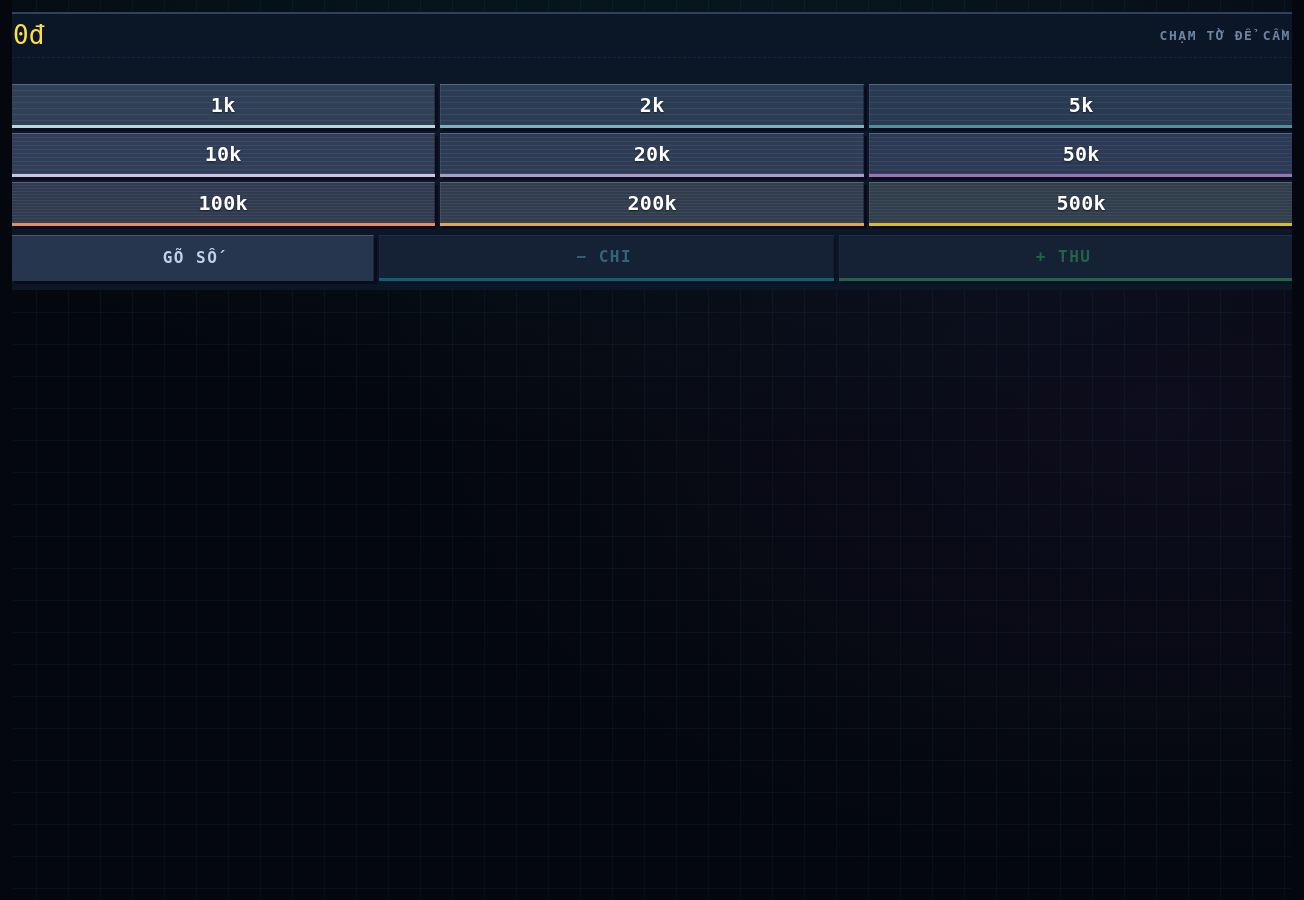
Test: §II — ⭐⭐⭐ cầm tiền rồi chạm CHI/THU — hai đích CỐ ĐỊNH (D410) › ⭐ chạm chồng ⇒ bỏ ra MỘT tờ, không bỏ cả chồng
Click the button "100k" at (223, 204), box x1=11 y1=182 x2=435 y2=226
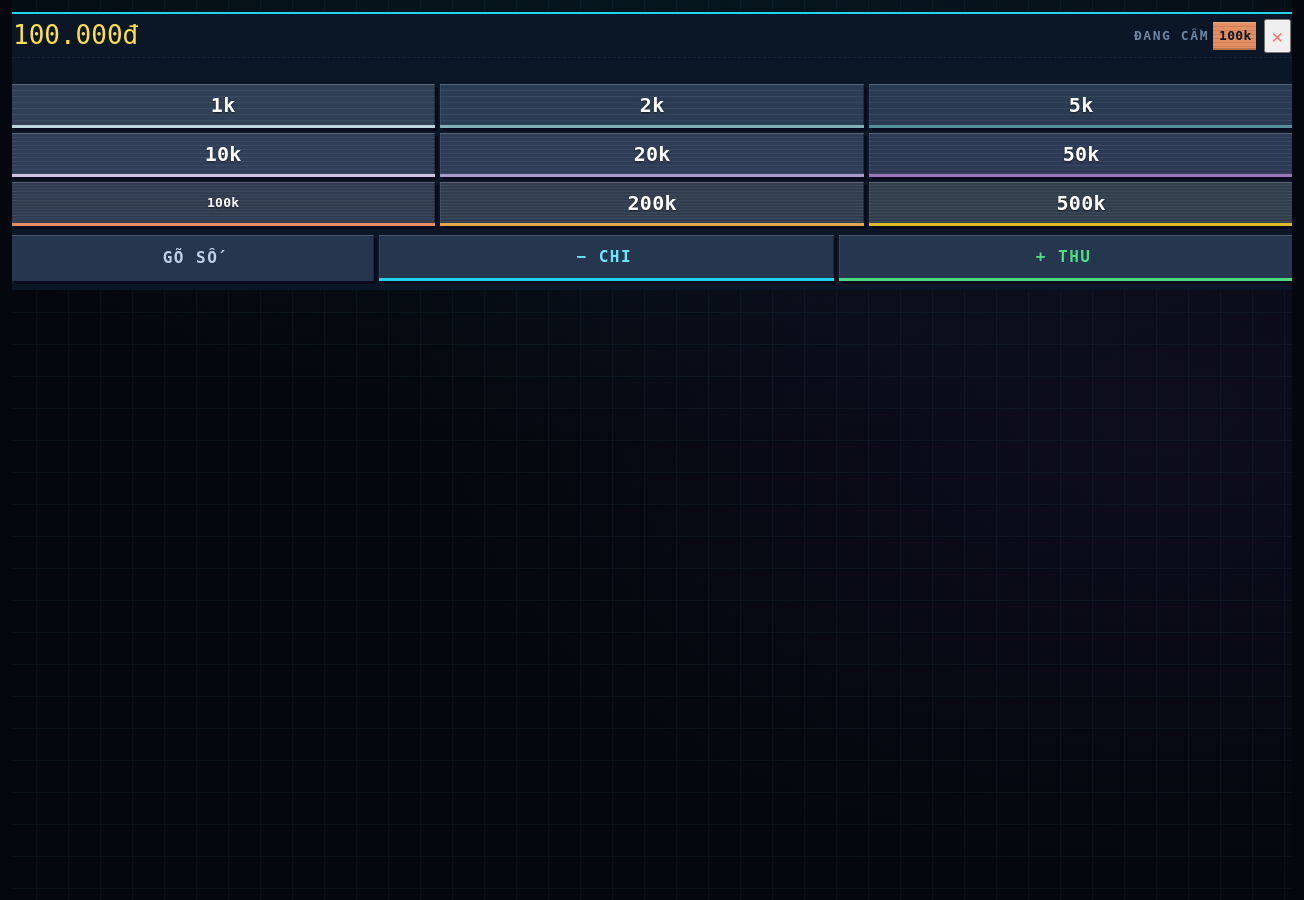
Click the 2nd button "100k" at (223, 204), box x1=11 y1=182 x2=435 y2=226
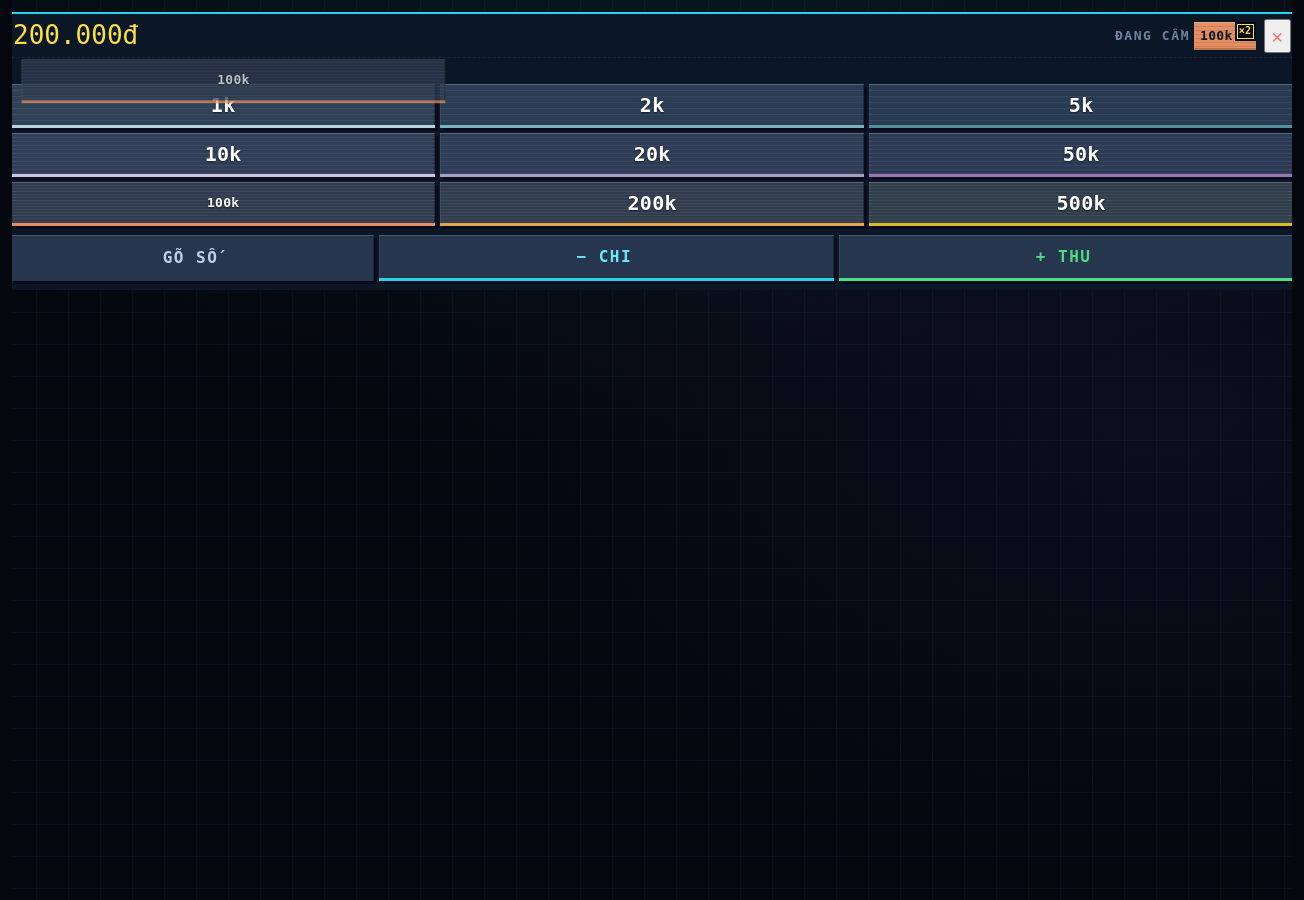
Click the button titled "Bỏ một tờ 100k" at (1225, 36), box x1=1194 y1=22 x2=1256 y2=50
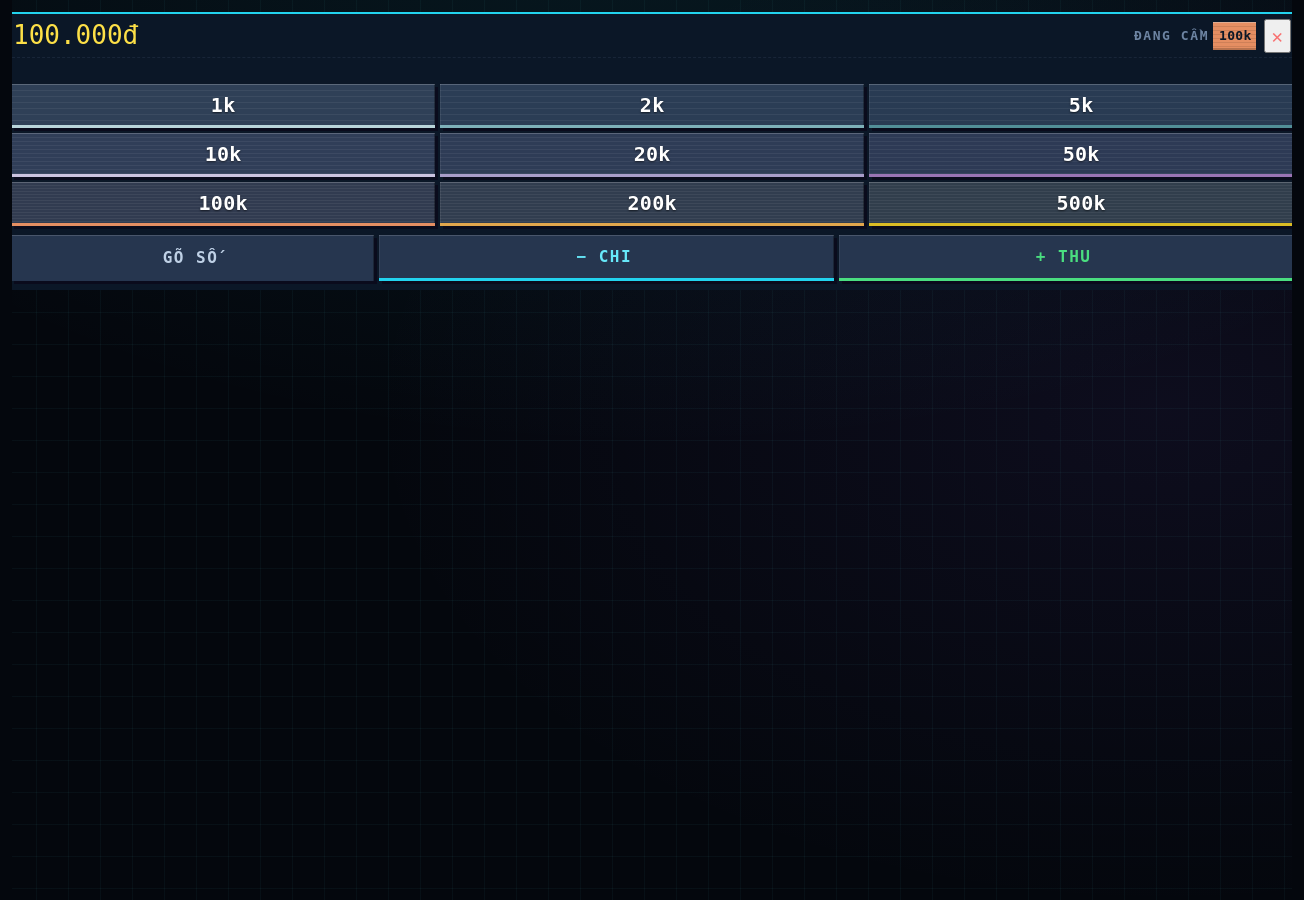
Expected: the text with test id "khay-tong" reads "100.000đ", x1=13 y1=20 x2=138 y2=50
